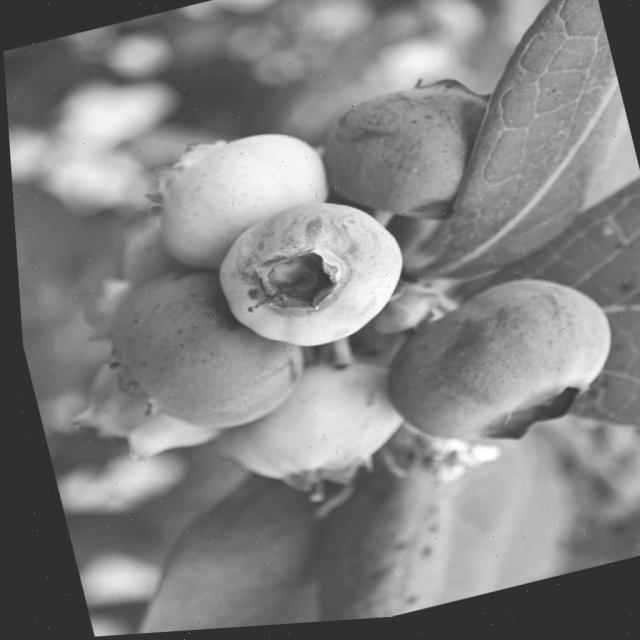RipeBlueBerry: (370, 272, 623, 467)
Semi-RipeBlueBerry: (202, 190, 413, 368)
